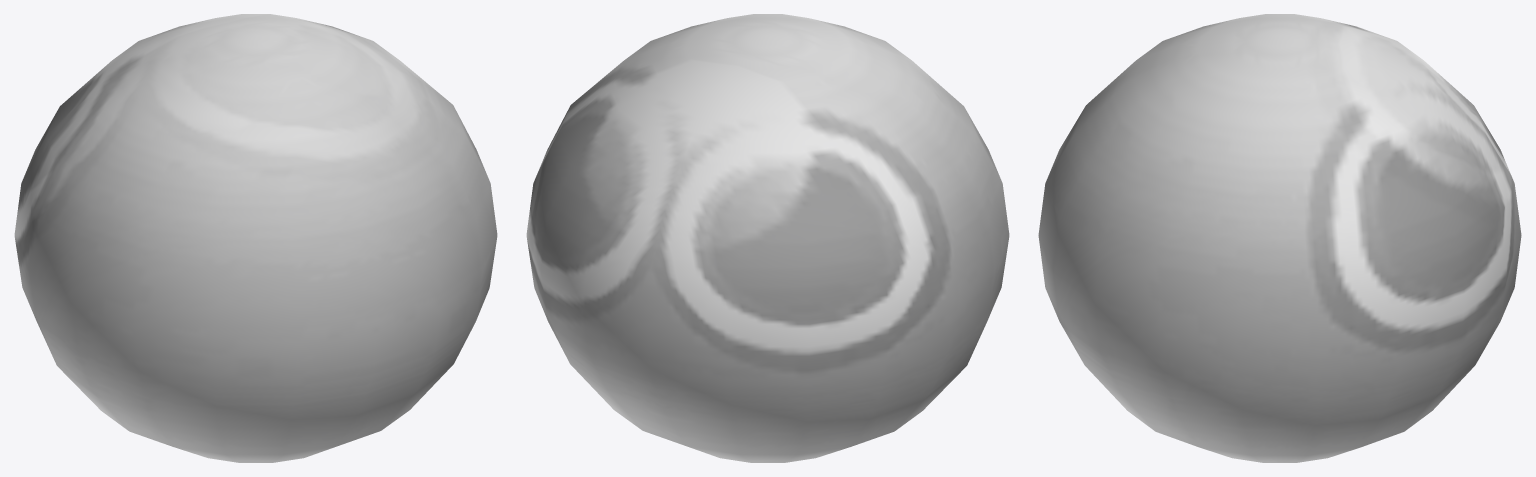
Rendered from garbagepuyo.glb.
The picture shows the model from 3 angles, left to right: view 1: azimuth 30°, elevation 25°; view 2: azimuth 150°, elevation 25°; view 3: azimuth 270°, elevation 25°; orthographic projection.
Parts seen in each view (by area): view 1: _1_0.001; view 2: _1_0.001; view 3: _1_0.001.
Part boxes in pixels (<box>): _1_0.001: <box>14,14,497,462</box>; _1_0.001: <box>526,14,1009,462</box>; _1_0.001: <box>1038,14,1521,462</box>.
Bounding box in the file's own units: 1.33 × 1.23 × 1.35.
Materials: 1 (1 with a texture image).
